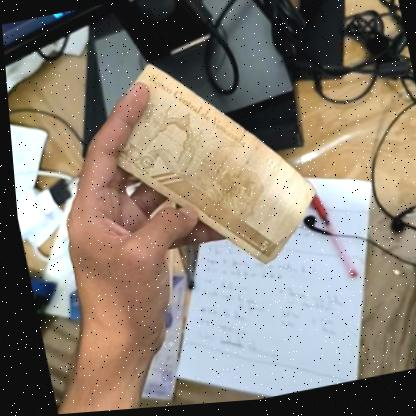five-back-vef: (82, 38, 325, 294)
